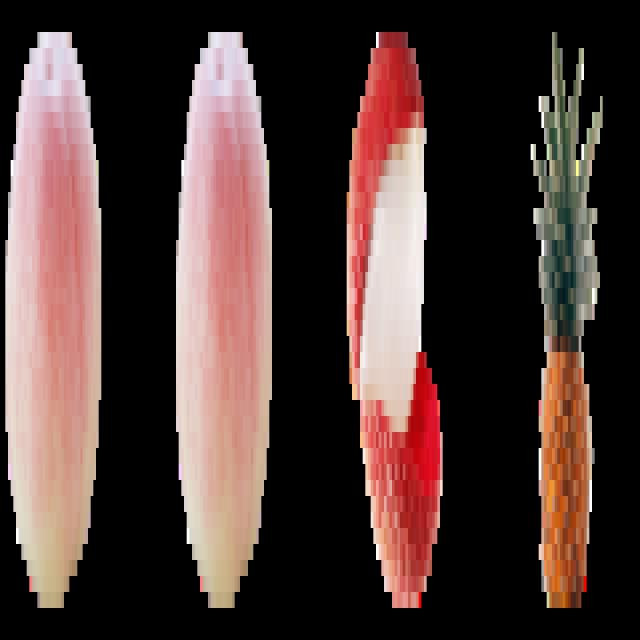lychee: (346, 13, 444, 615)
peach: (172, 19, 276, 606), (4, 22, 105, 618)
pineapples: (533, 12, 602, 624)
